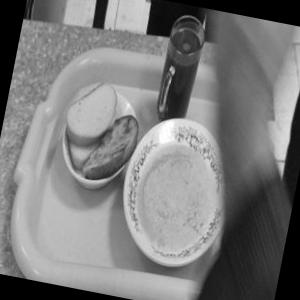bread: (51, 75, 122, 179)
cheese_sandwich: (73, 105, 149, 196)
coffee: (126, 6, 225, 130)
porridge: (116, 136, 234, 268)
